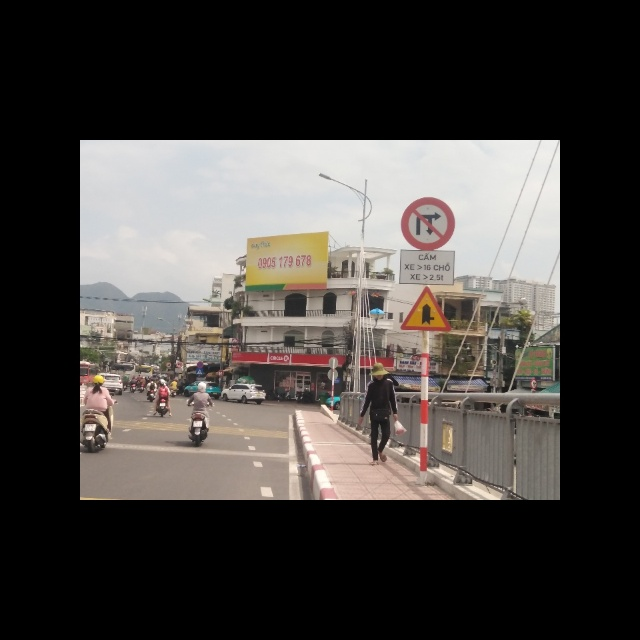Cấm quay đầu và rẽ phải: (402, 196, 456, 251)
Giao nhau với đường không ưu tiên: (399, 287, 451, 333)
